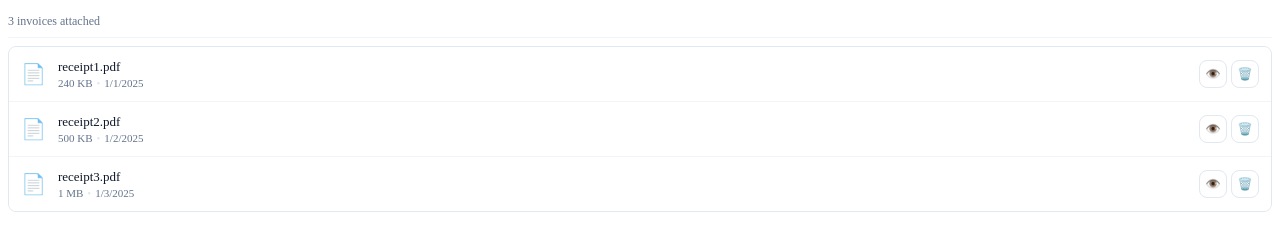
it: InvoiceList › shows delete confirmation when clicking delete button
The width and height of the screenshot is (1280, 229).
# Click the first delete button
Click the 1st button titled "Delete invoice" at [1245, 74], box 1231,60 -> 1259,88
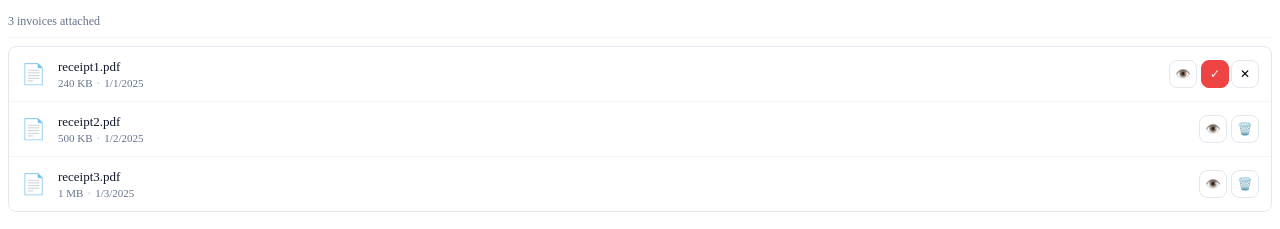
Now the button titled "Confirm delete" is shown, box 1201,60 -> 1229,88
Now the button titled "Cancel delete" is shown, box 1231,60 -> 1259,88
